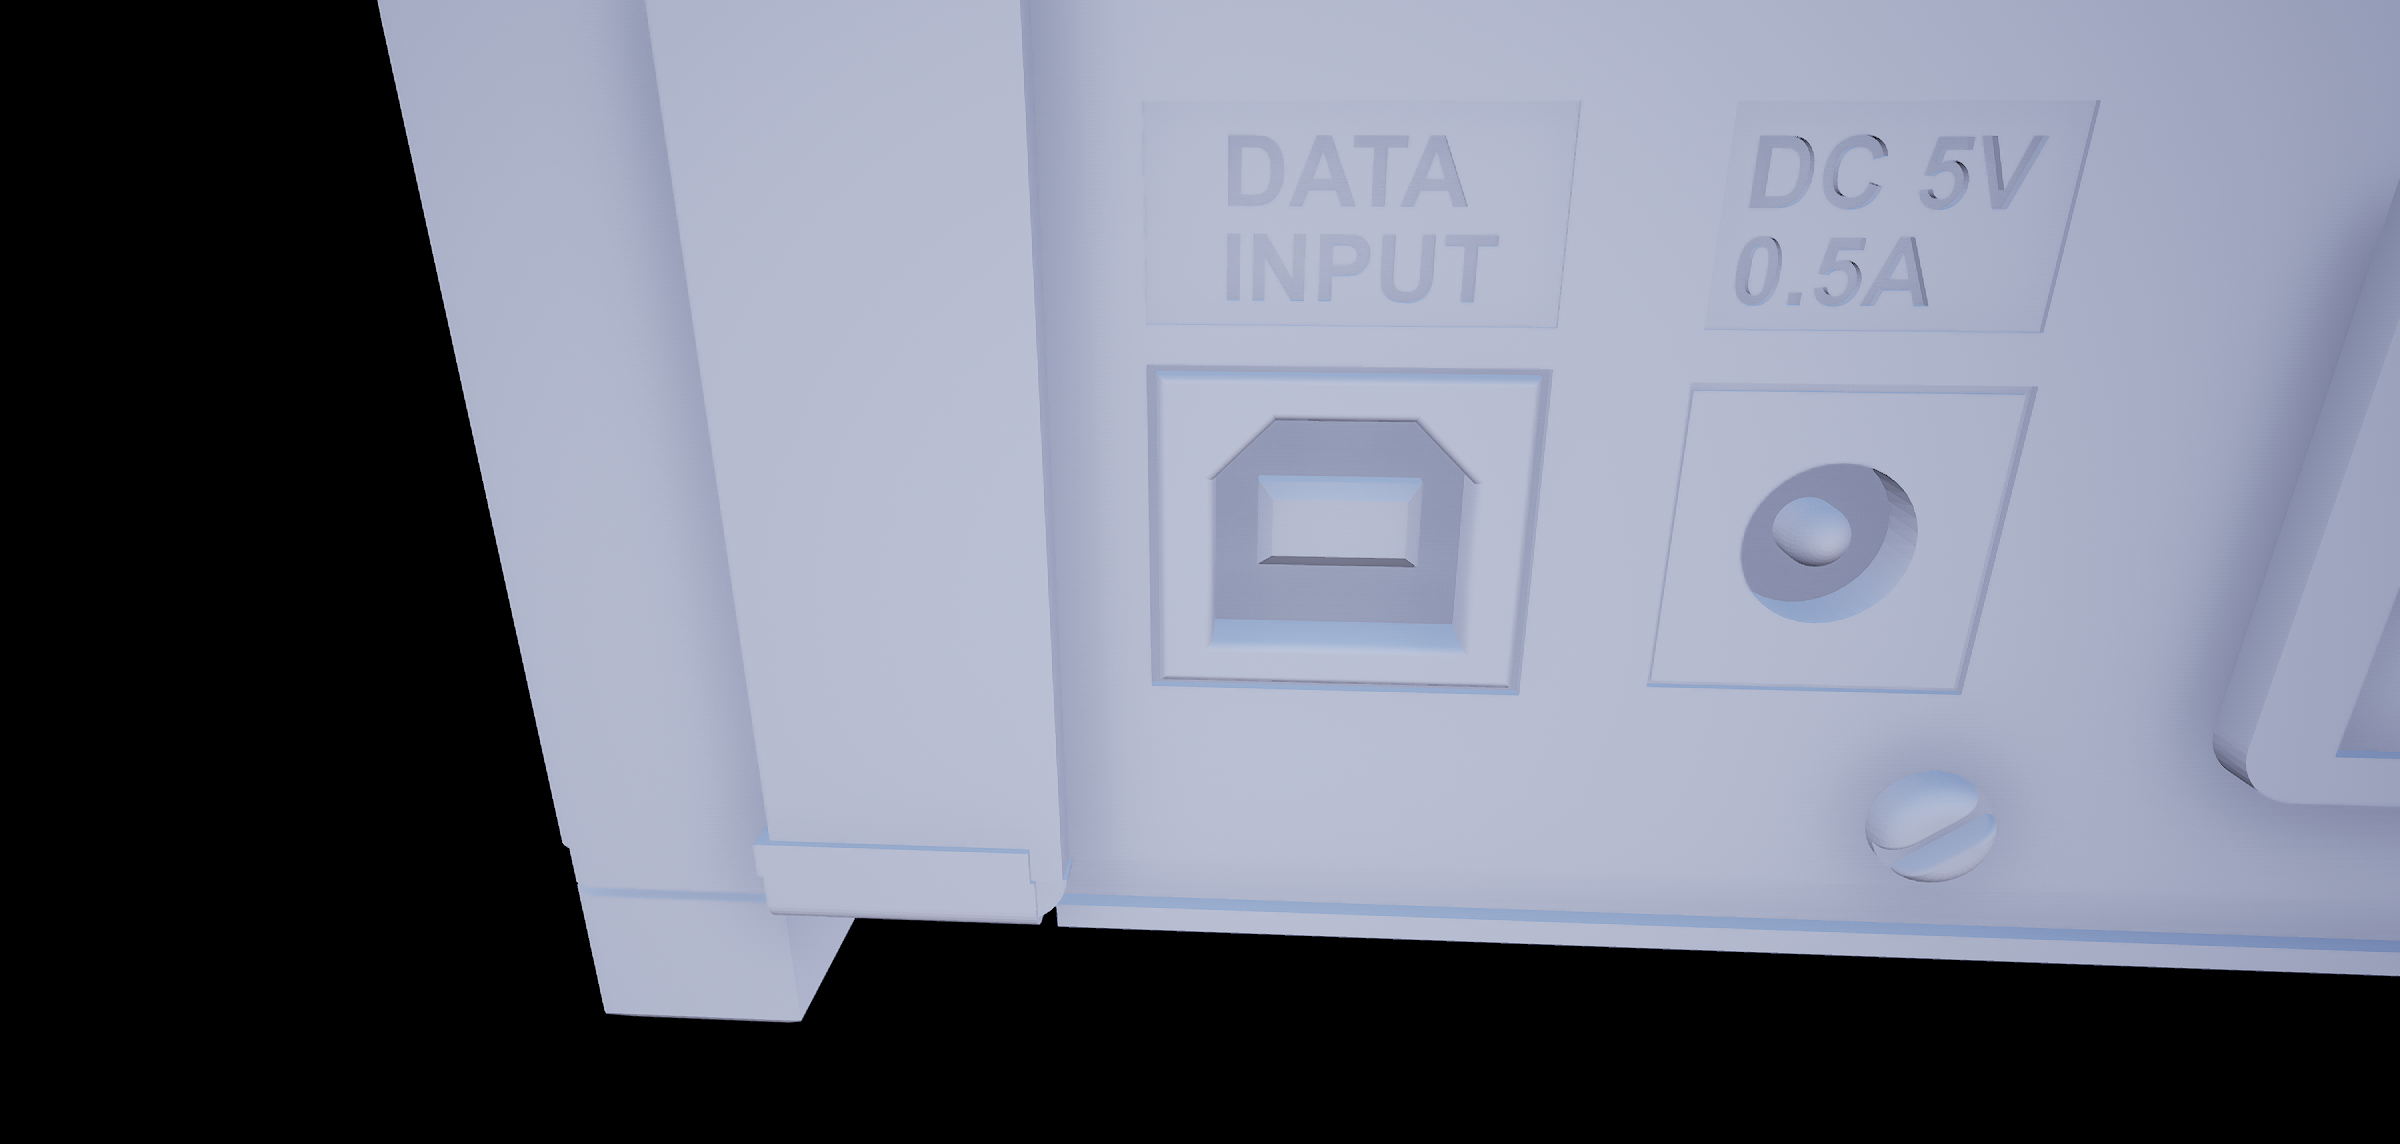dc: (1730, 449, 1927, 628)
usb: (1200, 394, 1491, 678)
